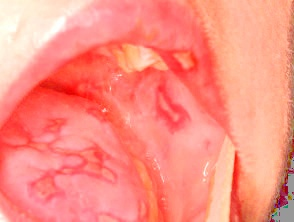SJS-TEN: (0, 91, 124, 212), (143, 75, 195, 134)
